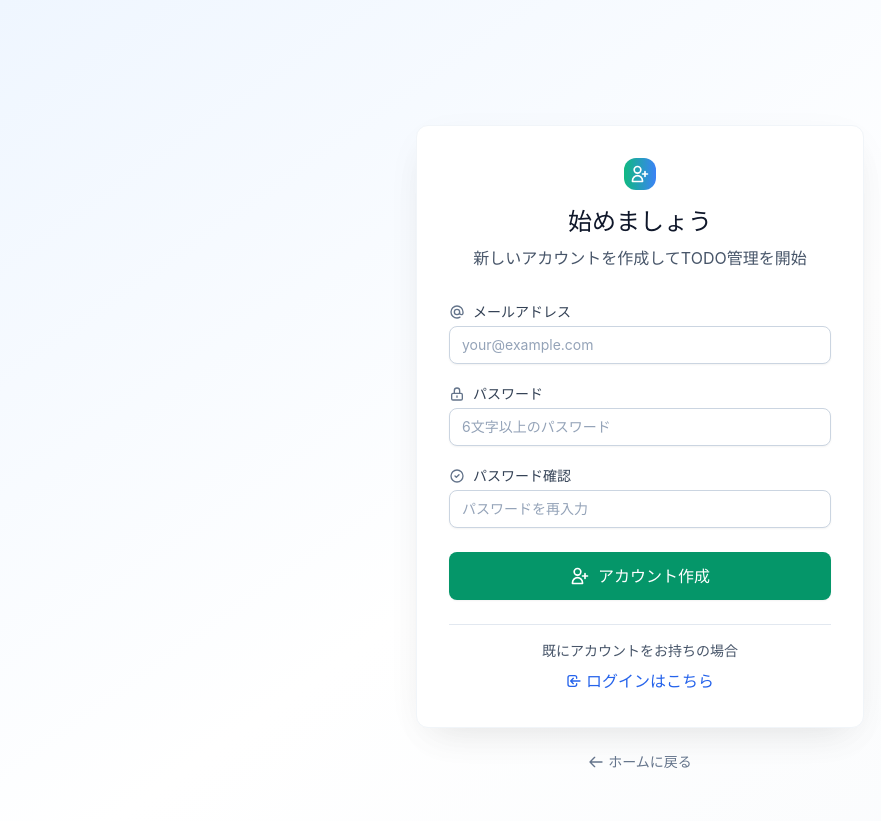
Test: SignupForm › バリデーション › 空値でフォーム送信しようとするとバリデーションエラーが表示される
The width and height of the screenshot is (881, 821).
What coordinates should you click on to do the following:
click the button "アカウント作成"
I would click on:
 (640, 576)
Its box is [449,552,831,600].
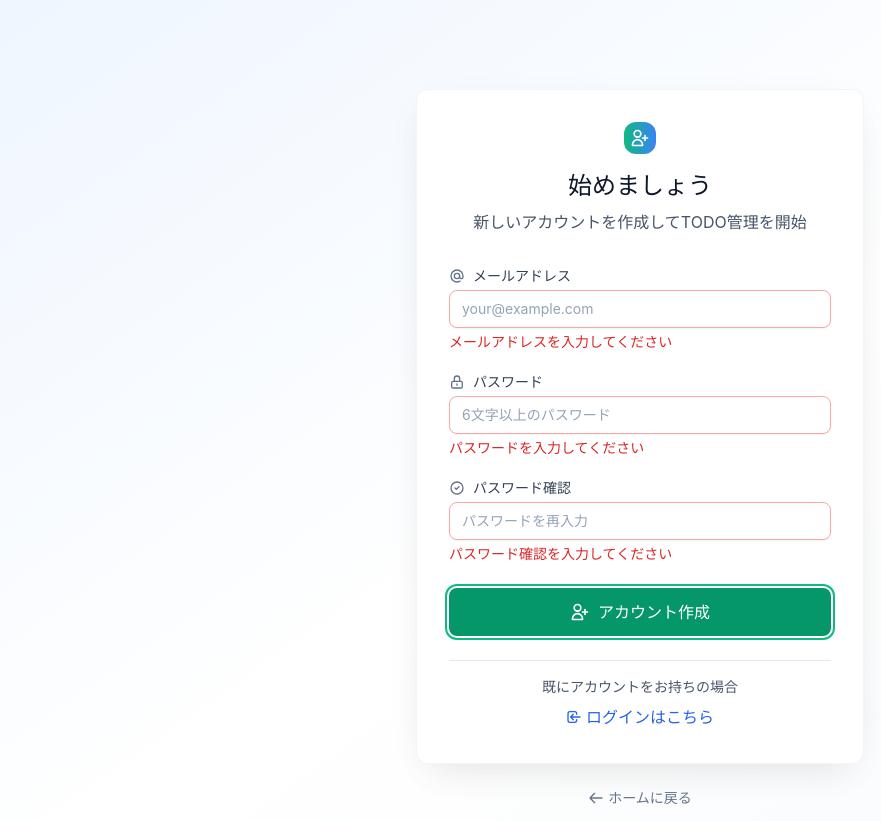
Expected: the text "メールアドレスを入力してください" is shown, [449,332,672,350]
Expected: the text "パスワードを入力してください" is shown, [449,438,644,456]
Expected: the text "パスワード確認を入力してください" is shown, [449,544,672,562]
